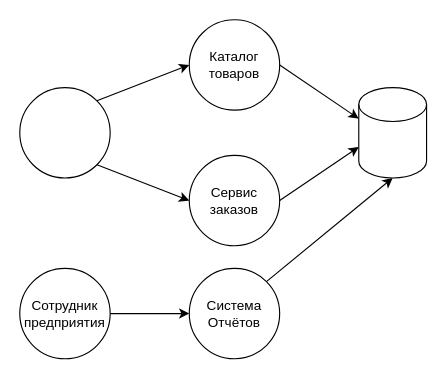
This 446x379 diagram has some shape labels left out. Here are the shapes that lost their labels. From the top down, the box of each, then its label:
(19, 86, 110, 178): Клиент
(358, 86, 427, 178): БД
